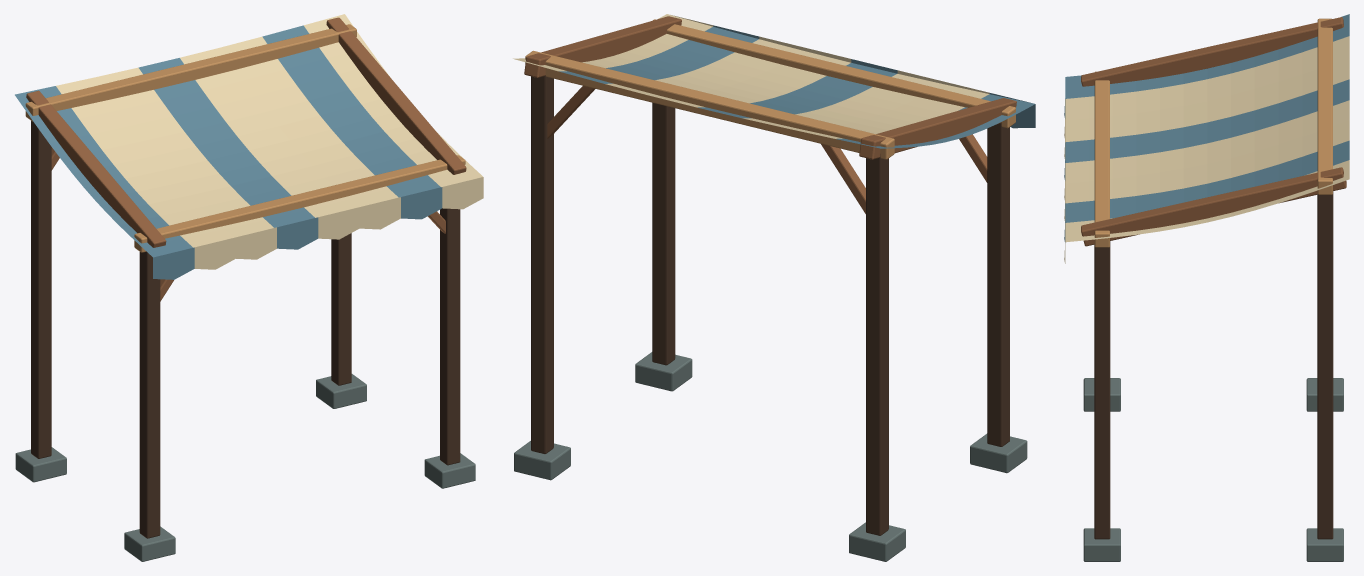
File: linen_canopy.glb
3 views of the same model, side by side, from view 1: azimuth 30°, elevation 25°; view 2: azimuth 150°, elevation 25°; view 3: azimuth 270°, elevation 25° (orthographic). The views are drawn at different scales.
Parts seen in each view (by area): view 1: linen_canopy__cover, linen_canopy__structure; view 2: linen_canopy__structure, linen_canopy__cover; view 3: linen_canopy__cover, linen_canopy__structure.
Boxes of the visible parts, x1,y1,x2,y2 form: linen_canopy__cover: (15,14,483,279); linen_canopy__structure: (15,17,475,561); linen_canopy__structure: (514,16,1027,561); linen_canopy__cover: (513,14,1035,148); linen_canopy__cover: (1064,14,1349,263); linen_canopy__structure: (1081,17,1346,561).
Bounding box in the file's own units: 2.45 × 2.62 × 1.76.
